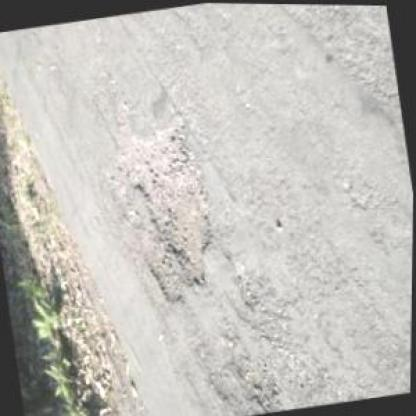pothole: (92, 82, 228, 312)
